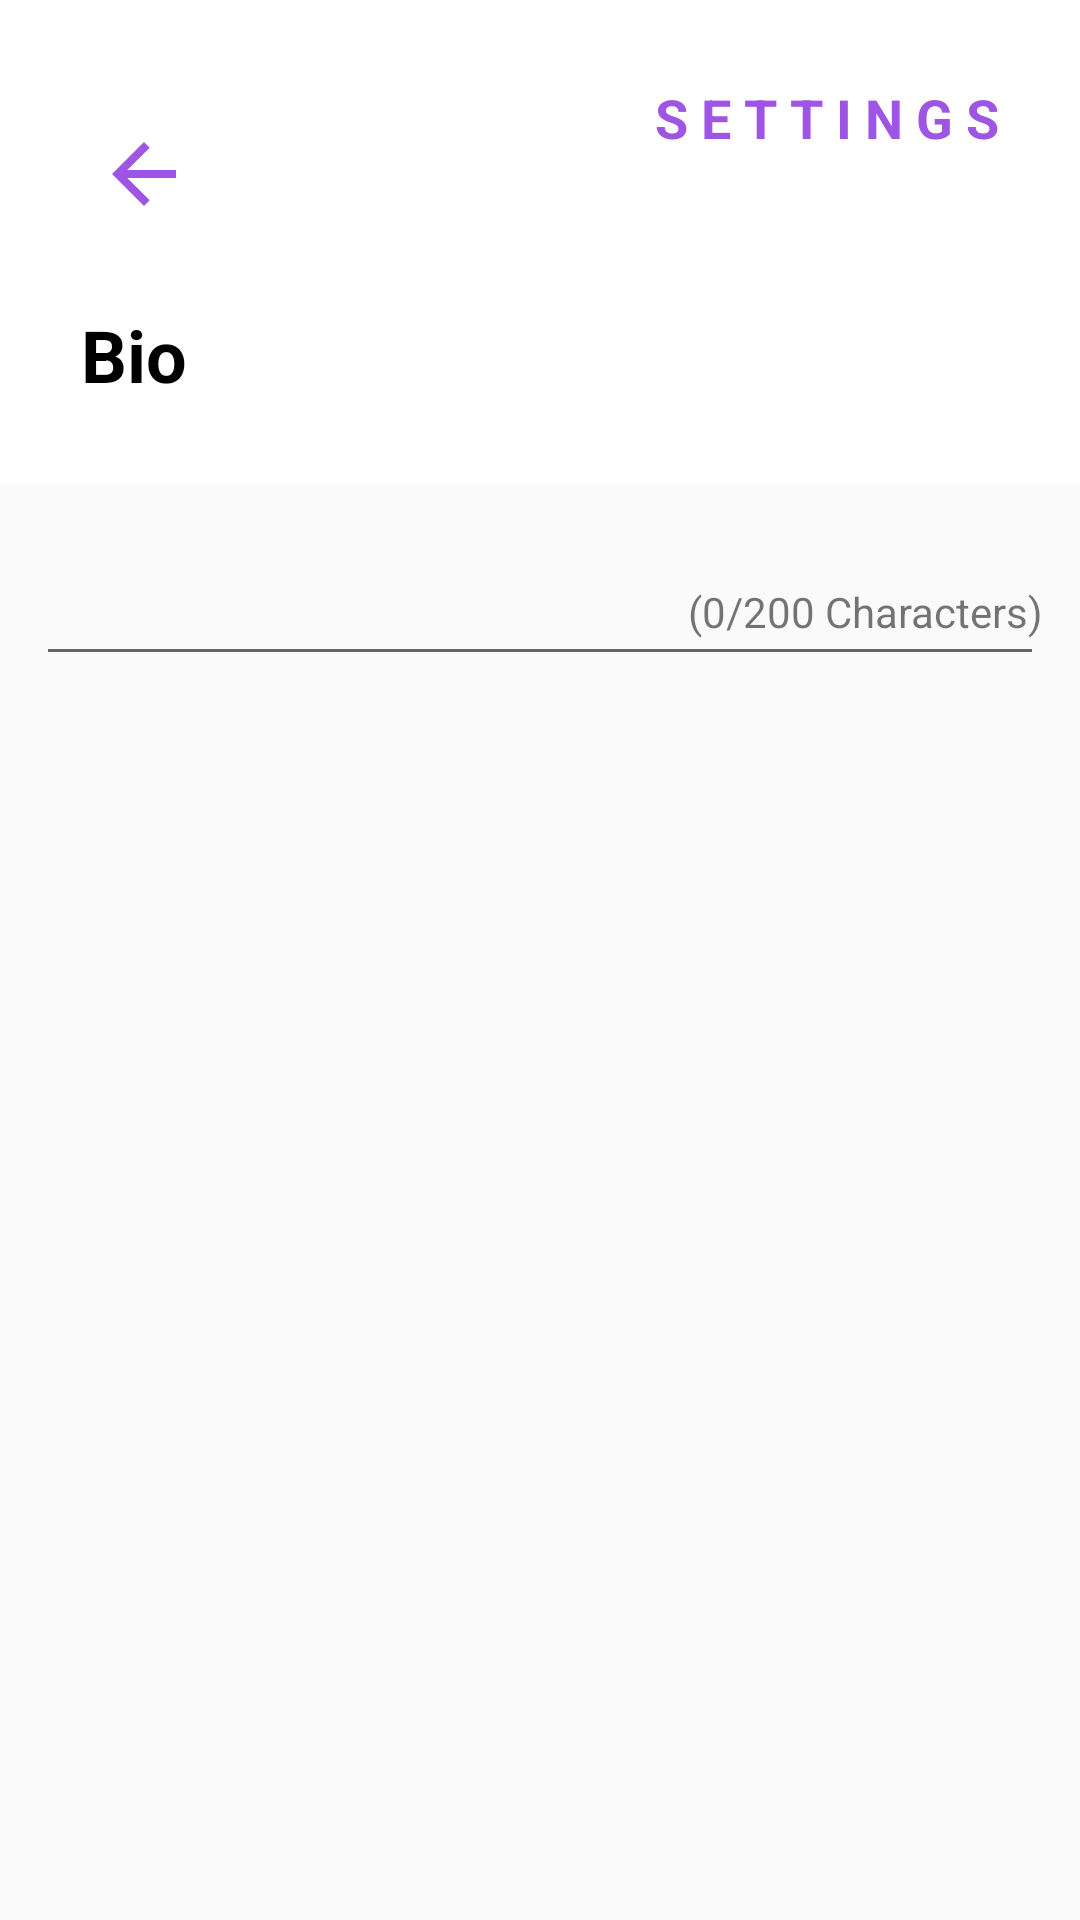

Named icons in this screenshot (1080 x 1920) and their bounding boxes, (x1, y1, x2, y2):
Back button: (112, 142, 176, 206)
